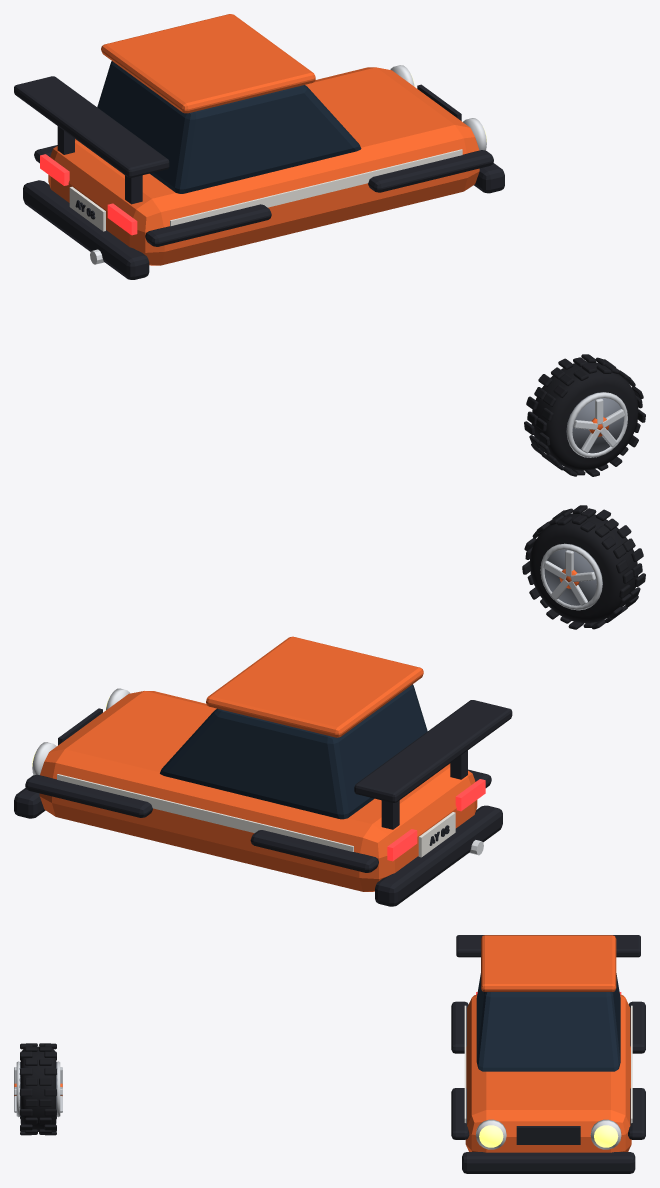
The model's file is car.glb.
3 views of the same model, one above another, from view 1: azimuth 30°, elevation 25°; view 2: azimuth 150°, elevation 25°; view 3: azimuth 270°, elevation 25° (orthographic). The views are drawn at different scales.
Parts seen in each view (by area): view 1: body, wheel; view 2: body, wheel; view 3: body, wheel.
Part boxes in pixels (box(x1,y1,x2,y2)): body: box(14, 14, 504, 279); wheel: box(524, 354, 645, 476); body: box(14, 636, 512, 906); wheel: box(522, 505, 645, 629); body: box(451, 935, 645, 1173); wheel: box(14, 1043, 62, 1135).
Size of the model in its own units: 2.76 by 1.3 by 4.96.
